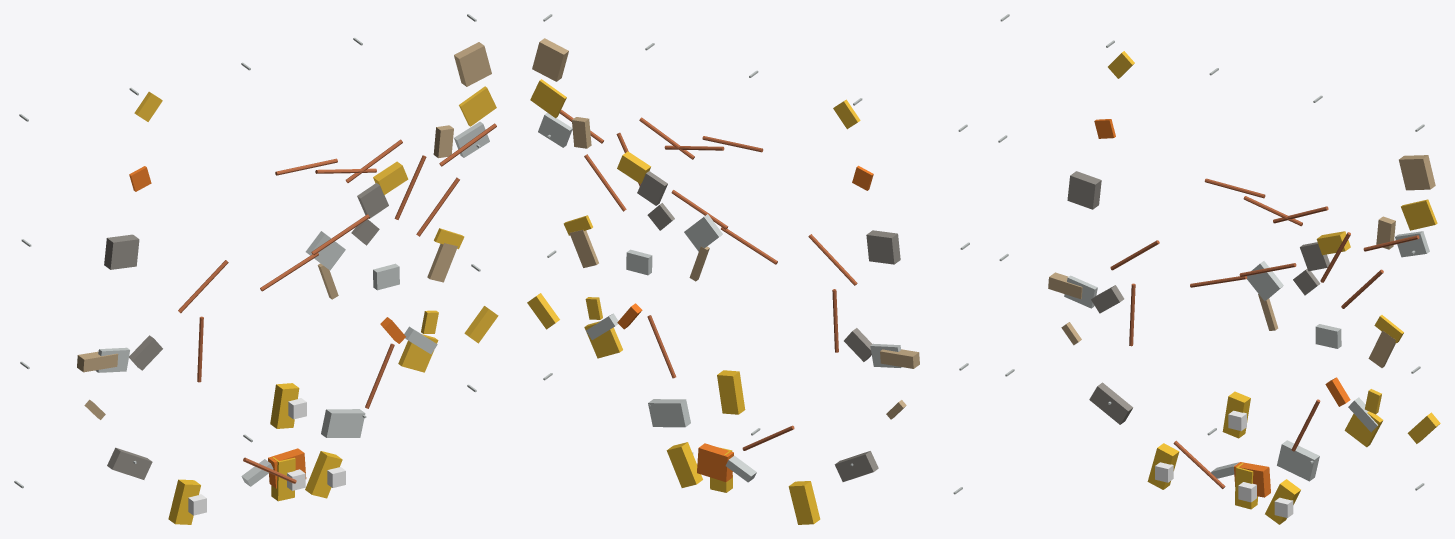
The model's file is compact_highrise_surroundings.glb.
3 views of the same model, side by side, from view 1: azimuth 30°, elevation 25°; view 2: azimuth 150°, elevation 25°; view 3: azimuth 330°, elevation 25° (orthographic). The views are drawn at different scales.
Parts seen in each view (by area): view 1: POLISH_Highrise_Clutter_4, POLISH_Highrise_Clutter_23, POLISH_Highrise_Clutter_7, SM_Vehicle_14_body, SM_Vehicle_09_body, SM_Vehicle_04_body, POLISH_Highrise_Clutter_13, POLISH_Highrise_Clutter_12, POLISH_Highrise_Clutter_1, POLISH_Highrise_Clutter_5, POLISH_Highrise_Clutter_17, POLISH_Highrise_Clutter_14 (+9 smaller); view 2: POLISH_Highrise_Clutter_4, POLISH_Highrise_Clutter_23, POLISH_Highrise_Clutter_24, SM_Vehicle_14_body, SM_Vehicle_04_body, POLISH_Highrise_Clutter_7, SM_Vehicle_09_body, POLISH_Highrise_Clutter_13, POLISH_Highrise_Clutter_12, POLISH_Highrise_Clutter_1, POLISH_Highrise_Clutter_21, POLISH_Highrise_Clutter_5 (+8 smaller); view 3: POLISH_Highrise_Clutter_4, POLISH_Highrise_Clutter_23, POLISH_Highrise_Clutter_7, POLISH_Highrise_Clutter_13, POLISH_Highrise_Clutter_12, POLISH_Highrise_Clutter_1, SM_Vehicle_04_body, POLISH_Highrise_Clutter_5, SM_Vehicle_14_body, POLISH_Highrise_Clutter_24, SM_Vehicle_09_body, POLISH_Highrise_Clutter_21 (+8 smaller).
Part boxes in pixels (bbox=[...]): POLISH_Highrise_Clutter_4: bbox=[321, 409, 365, 437]; POLISH_Highrise_Clutter_23: bbox=[454, 42, 491, 86]; POLISH_Highrise_Clutter_7: bbox=[104, 234, 139, 269]; SM_Vehicle_14_body: bbox=[168, 479, 200, 524]; SM_Vehicle_09_body: bbox=[305, 451, 342, 498]; SM_Vehicle_04_body: bbox=[270, 383, 299, 428]; POLISH_Highrise_Clutter_13: bbox=[107, 447, 152, 479]; POLISH_Highrise_Clutter_12: bbox=[459, 86, 496, 126]; POLISH_Highrise_Clutter_1: bbox=[305, 231, 345, 270]; POLISH_Highrise_Clutter_5: bbox=[398, 334, 438, 372]; POLISH_Highrise_Clutter_17: bbox=[427, 243, 457, 282]; POLISH_Highrise_Clutter_14: bbox=[357, 183, 388, 218]; POLISH_Highrise_Clutter_4: bbox=[648, 399, 690, 427]; POLISH_Highrise_Clutter_23: bbox=[532, 38, 568, 81]; POLISH_Highrise_Clutter_24: bbox=[697, 443, 733, 481]; SM_Vehicle_14_body: bbox=[788, 481, 820, 524]; SM_Vehicle_04_body: bbox=[717, 370, 745, 414]; POLISH_Highrise_Clutter_7: bbox=[866, 230, 900, 264]; SM_Vehicle_09_body: bbox=[666, 442, 702, 487]; POLISH_Highrise_Clutter_13: bbox=[834, 451, 878, 481]; POLISH_Highrise_Clutter_12: bbox=[530, 79, 566, 118]; POLISH_Highrise_Clutter_1: bbox=[684, 214, 722, 251]; POLISH_Highrise_Clutter_21: bbox=[538, 112, 572, 147]; POLISH_Highrise_Clutter_5: bbox=[584, 321, 622, 358]; POLISH_Highrise_Clutter_4: bbox=[1277, 440, 1319, 481]; POLISH_Highrise_Clutter_23: bbox=[1399, 155, 1435, 190]; POLISH_Highrise_Clutter_7: bbox=[1067, 171, 1101, 209]; POLISH_Highrise_Clutter_13: bbox=[1089, 382, 1133, 424]; POLISH_Highrise_Clutter_12: bbox=[1401, 199, 1437, 230]; POLISH_Highrise_Clutter_1: bbox=[1247, 261, 1283, 301]; SM_Vehicle_04_body: bbox=[1222, 391, 1250, 438]; POLISH_Highrise_Clutter_5: bbox=[1344, 411, 1383, 447]; SM_Vehicle_14_body: bbox=[1147, 443, 1179, 489]; POLISH_Highrise_Clutter_24: bbox=[1234, 462, 1270, 497]; SM_Vehicle_09_body: bbox=[1265, 479, 1300, 524]; POLISH_Highrise_Clutter_21: bbox=[1395, 231, 1429, 257].
Size of the model in its own units: 137 by 127 by 16.66.
